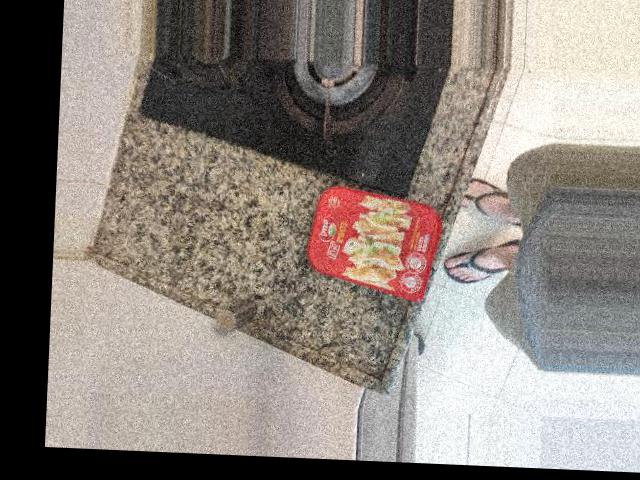cheese: (164, 157, 331, 278)
